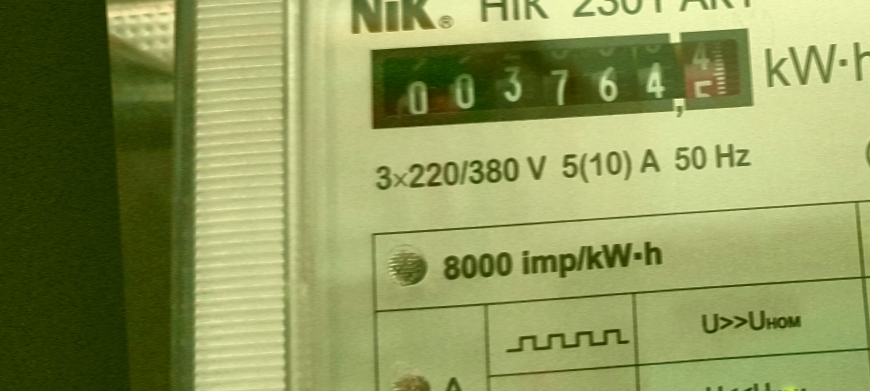0: (404, 78, 430, 117), (452, 71, 476, 112)
3: (499, 64, 524, 105)
4: (644, 60, 666, 101), (689, 40, 712, 73)
5: (691, 78, 714, 101)
6: (596, 64, 619, 104)
7: (548, 65, 573, 108)
screen: (352, 10, 769, 145)
